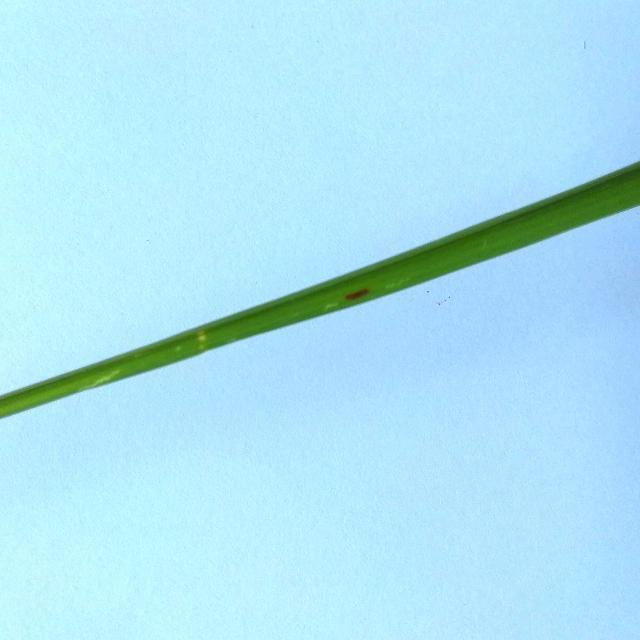brownspots: (340, 282, 374, 306)
